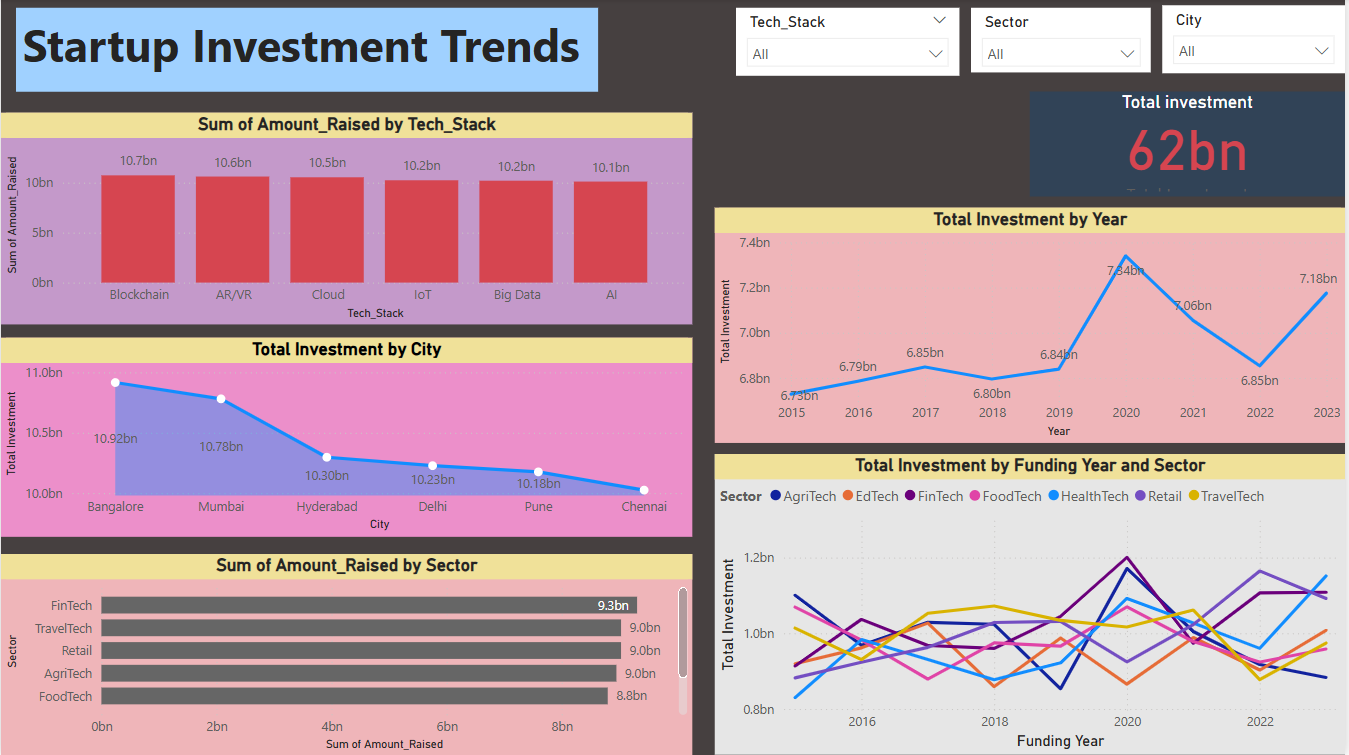

What the dashboard file says about the page in this screenshot:
{"tool":"powerbi","page":{"name":"Dashbord","canvas":[1280,720],"ordinal":9},"visuals":[{"type":"clusteredBarChart","fields":{"Category":["Indian_Startup_Investment_Trends.Sector"],"Y":["Sum(Indian_Startup_Investment_Trends.Amount_Raised)"]},"box":[0,528.3,658.7,192.1],"z":0},{"type":"clusteredColumnChart","fields":{"Category":["Indian_Startup_Investment_Trends.Tech_Stack"],"Y":["Sum(Indian_Startup_Investment_Trends.Amount_Raised)"]},"box":[0,108.4,658.7,201.7],"z":1},{"type":"stackedAreaChart","fields":{"Category":["Indian_Startup_Investment_Trends.City"],"Y":["Indian_Startup_Investment_Trends.Total Investment"]},"box":[0,322.5,658.7,189.4],"z":2},{"type":"lineChart","fields":{"Category":["Indian_Startup_Investment_Trends.Funding Year"],"Y":["Indian_Startup_Investment_Trends.Total Investment"],"Series":["Indian_Startup_Investment_Trends.Sector"]},"box":[679.2,433.6,601,286.8],"z":3},{"type":"lineChart","fields":{"Category":["Indian_Startup_Investment_Trends.Funding_Date.Variation.Date Hierarchy.Year","Indian_Startup_Investment_Trends.Funding_Date.Variation.Date Hierarchy.Quarter","Indian_Startup_Investment_Trends.Funding_Date.Variation.Date Hierarchy.Month","Indian_Startup_Investment_Trends.Funding_Date.Variation.Date Hierarchy.Day"],"Y":["Indian_Startup_Investment_Trends.Total Investment"]},"box":[679.2,199,601,223.7],"z":4},{"type":"slicer","title":"City","fields":{"Values":["Indian_Startup_Investment_Trends.City"]},"box":[1106,5.5,174.3,64.5],"z":5},{"type":"slicer","fields":{"Values":["Indian_Startup_Investment_Trends.Sector"]},"box":[923.5,8.2,171.5,61.7],"z":6},{"type":"slicer","fields":{"Values":["Indian_Startup_Investment_Trends.Tech_Stack"]},"box":[699.8,8.2,212.7,64.5],"z":7},{"type":"card","title":"Total investment","fields":{"Values":["Indian_Startup_Investment_Trends.Total Investment"]},"box":[979.8,87.8,300.5,100.2],"z":8},{"type":"textbox","box":[14.3,8.3,554.8,79.8],"z":9}]}

Visuals, with their boxes in screenshot pixels (x1, y1, x2, y2), scaled from the page's 1280x720 canvas onto the 1349x755 screenshot:
clusteredBarChart - Indian_Startup_Investment_Trends.Sector x Sum(Indian_Startup_Investment_Trends.Amount_Raised): 0:554:694:754
clusteredColumnChart - Indian_Startup_Investment_Trends.Tech_Stack x Sum(Indian_Startup_Investment_Trends.Amount_Raised): 0:114:694:325
stackedAreaChart - Indian_Startup_Investment_Trends.City x Indian_Startup_Investment_Trends.Total Investment: 0:338:694:537
lineChart - Indian_Startup_Investment_Trends.Funding Year x Indian_Startup_Investment_Trends.Total Investment: 716:455:1348:754
lineChart - Indian_Startup_Investment_Trends.Funding_Date.Variation.Date Hierarchy.Year x Indian_Startup_Investment_Trends.Funding_Date.Variation.Date Hierarchy.Quarter: 716:209:1348:443
"City" slicer: 1166:6:1348:73
slicer - Indian_Startup_Investment_Trends.Sector: 973:9:1154:73
slicer - Indian_Startup_Investment_Trends.Tech_Stack: 738:9:962:76
"Total investment" card: 1033:92:1348:197
textbox: 15:9:600:92
